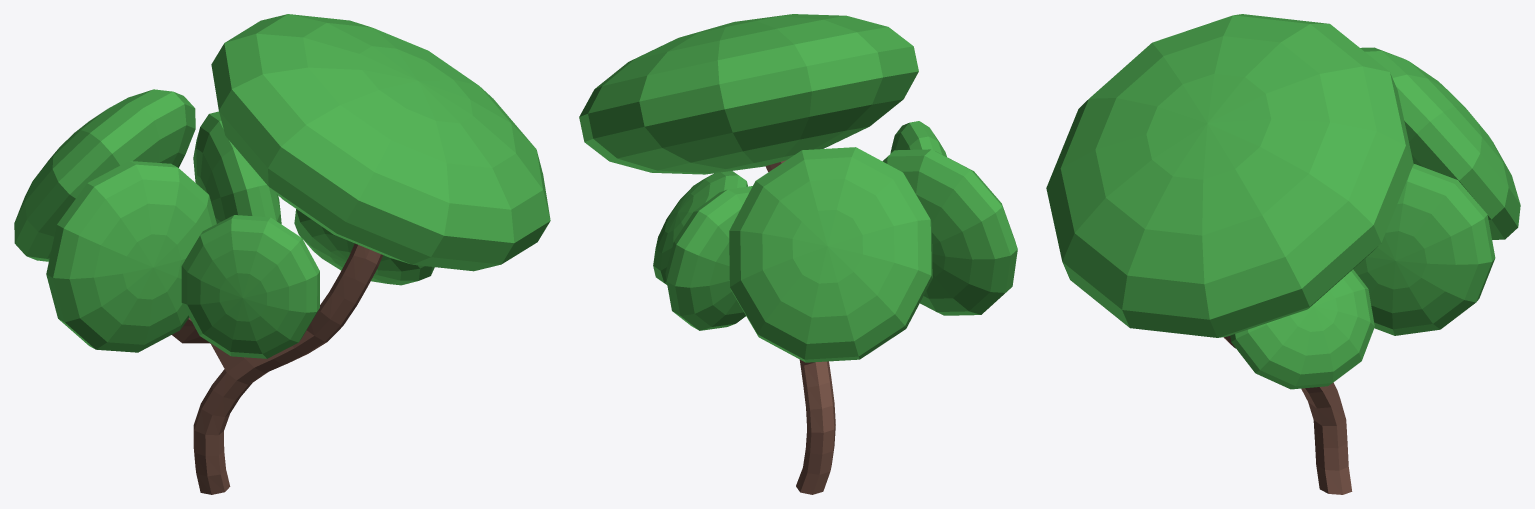
The model's file is model-triangulated.obj.
3 views of the same model, side by side, from view 1: azimuth 30°, elevation 25°; view 2: azimuth 150°, elevation 25°; view 3: azimuth 270°, elevation 25° (orthographic). The views are drawn at different scales.
Parts seen in each view (by area): view 1: group1608355030, group575277804, group1555488662, group1868026102, group1678952250, group443852204, group1729045749; view 2: group1608355030, group1868026102, group575277804, group443852204, group1678952250, group1729045749, group1555488662; view 3: group1608355030, group443852204, group1868026102, group1729045749, group1678952250.
Part boxes in pixels (x1,y1,x2,y2): group1608355030: (211, 14, 550, 271); group575277804: (46, 161, 216, 352); group1555488662: (181, 215, 319, 358); group1868026102: (14, 89, 195, 261); group1678952250: (172, 243, 382, 494); group443852204: (193, 111, 281, 224); group1729045749: (294, 209, 434, 285); group1608355030: (579, 14, 918, 174); group1868026102: (729, 147, 932, 362); group575277804: (882, 149, 1017, 315); group443852204: (665, 186, 752, 330); group1678952250: (765, 160, 835, 494); group1729045749: (653, 171, 747, 284); group1555488662: (890, 121, 946, 156); group1608355030: (1046, 14, 1413, 337); group443852204: (1353, 164, 1495, 335); group1868026102: (1360, 47, 1520, 239); group1729045749: (1230, 269, 1374, 389); group1678952250: (1223, 336, 1352, 494).
Bounding box in the file's own units: 1.17 × 1.11 × 0.9915.
